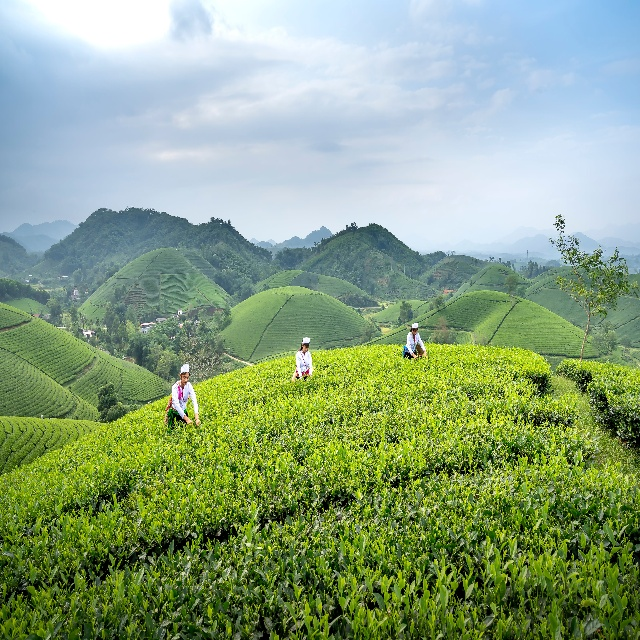Sin_guantes: (186, 418, 193, 427), (195, 418, 200, 426)
